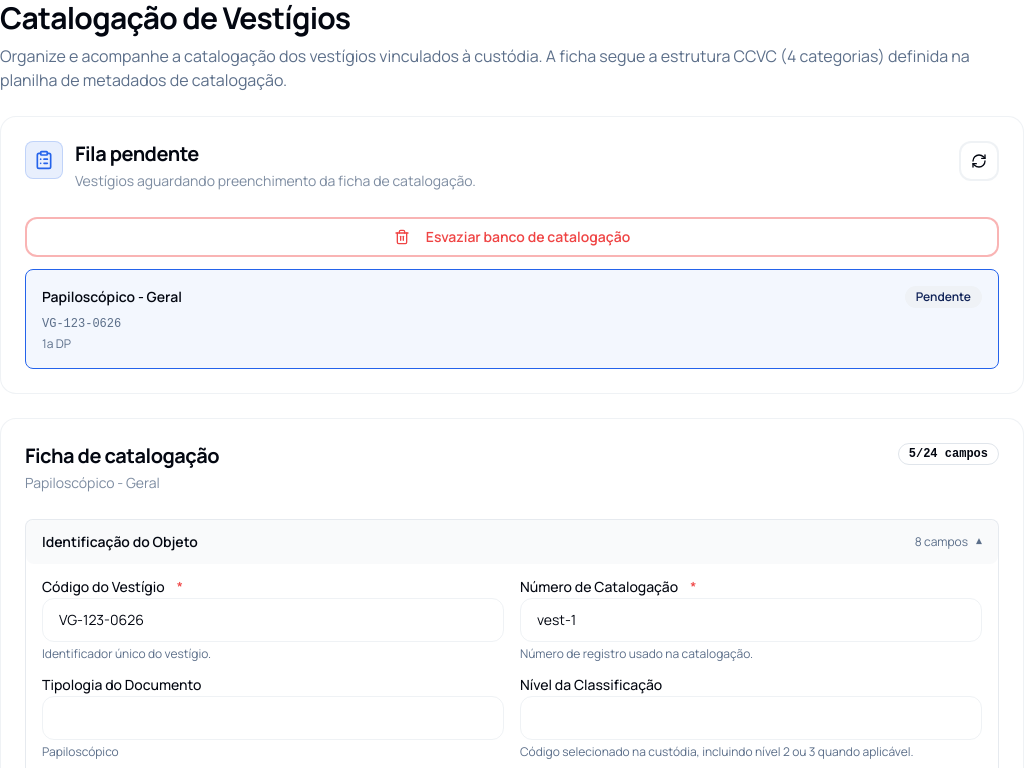
Test: CatalogacaoVestigiosPage › esvazia a fila pendente de catalogacao apos confirmacao
Check: the field showing "VG-123-0626" is shown, box [42,598,504,642]
Click the button "Esvaziar banco de catalogação".
click(512, 237)  # box [25,217,999,257]
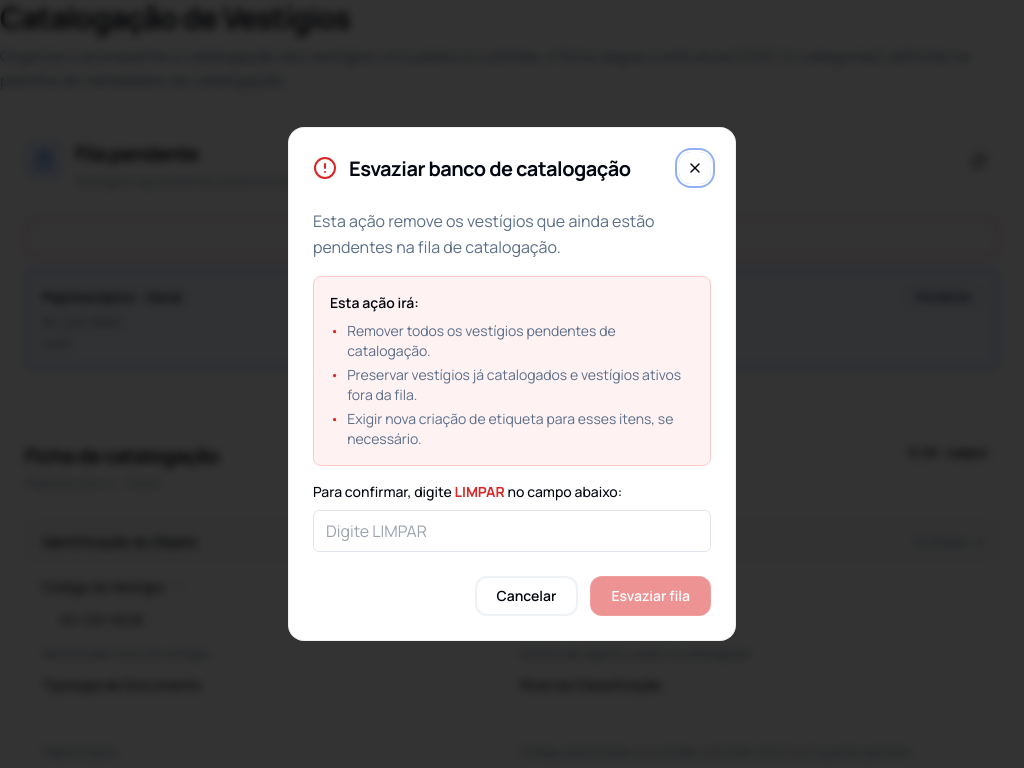
Type "LIMPAR" into the field labelled "Para confirmar, digite LIMPAR no campo abaixo:".
click(512, 531); type("LIMPAR")  # box [313,510,711,552]
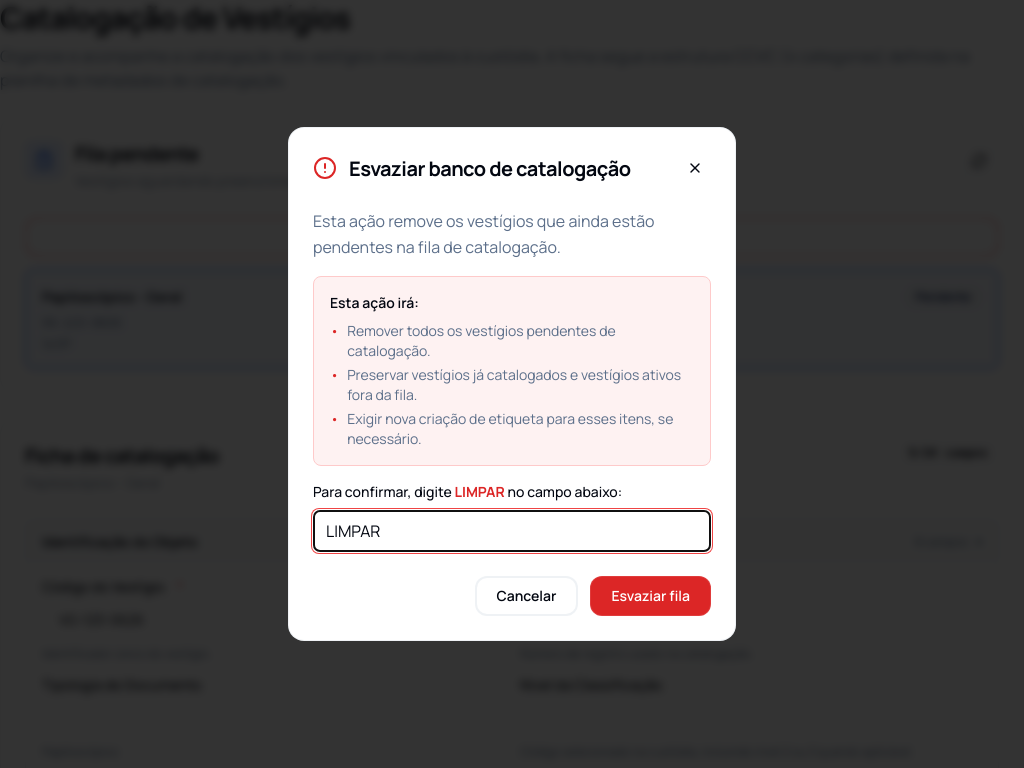
Click the button "Esvaziar fila".
click(651, 596)  # box [590,576,711,616]
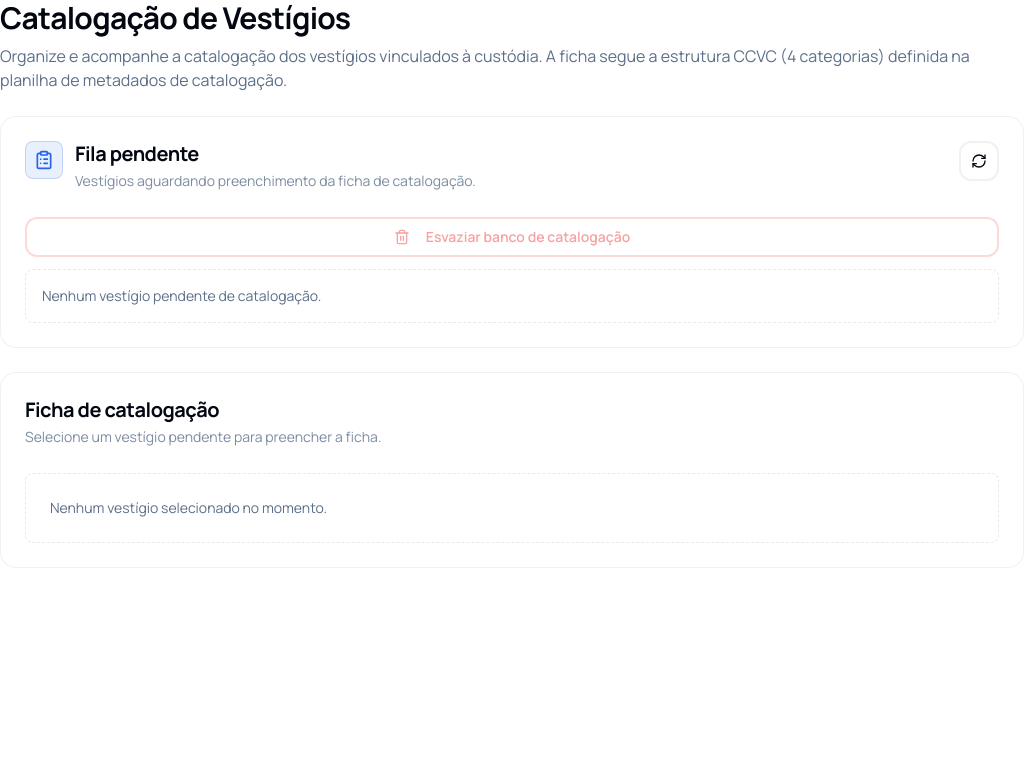
Check: the text "Nenhum vestígio pendente de catalogação." is shown, box [25,269,999,323]
